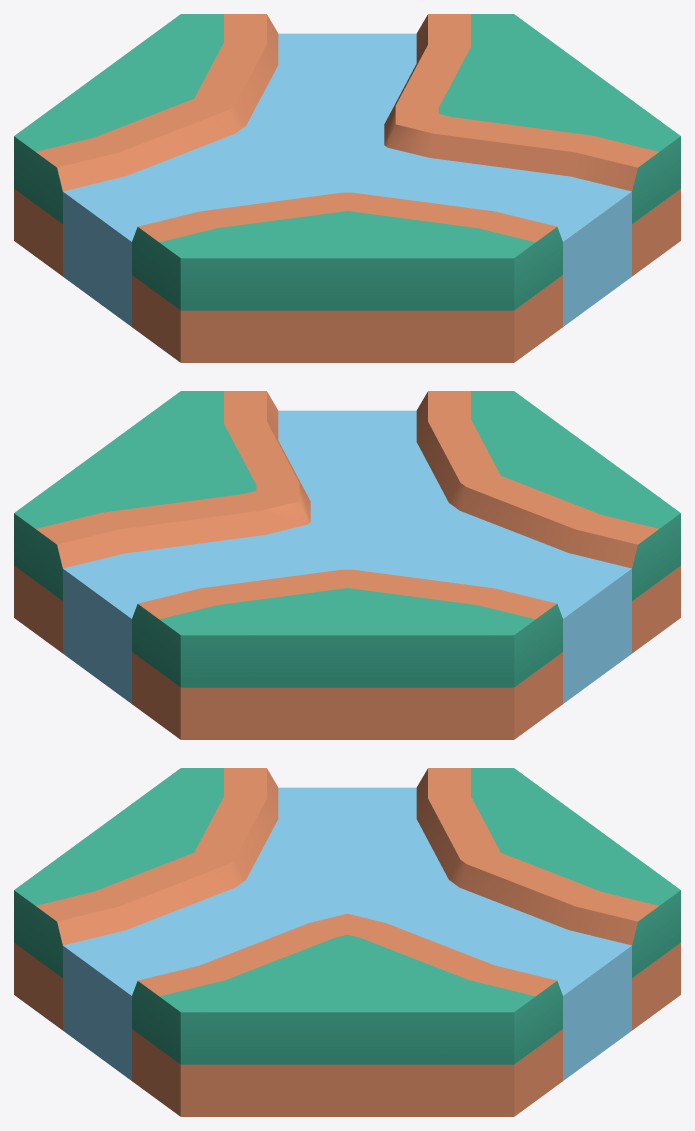
Rendered from river-intersectionF.fbx.
3 views of the same model, one above another, from view 1: azimuth 30°, elevation 25°; view 2: azimuth 150°, elevation 25°; view 3: azimuth 270°, elevation 25° (orthographic).
Parts seen in each view (by area): view 1: river_intersectionF; view 2: river_intersectionF; view 3: river_intersectionF.
Boxes of the visible parts, x1=… form: river_intersectionF: x1=14, y1=14, x2=680, y2=362; river_intersectionF: x1=14, y1=391, x2=680, y2=739; river_intersectionF: x1=14, y1=768, x2=680, y2=1116.
Size of the model in its own units: 100 by 20 by 115.
Materials: 1 (1 with a texture image).
